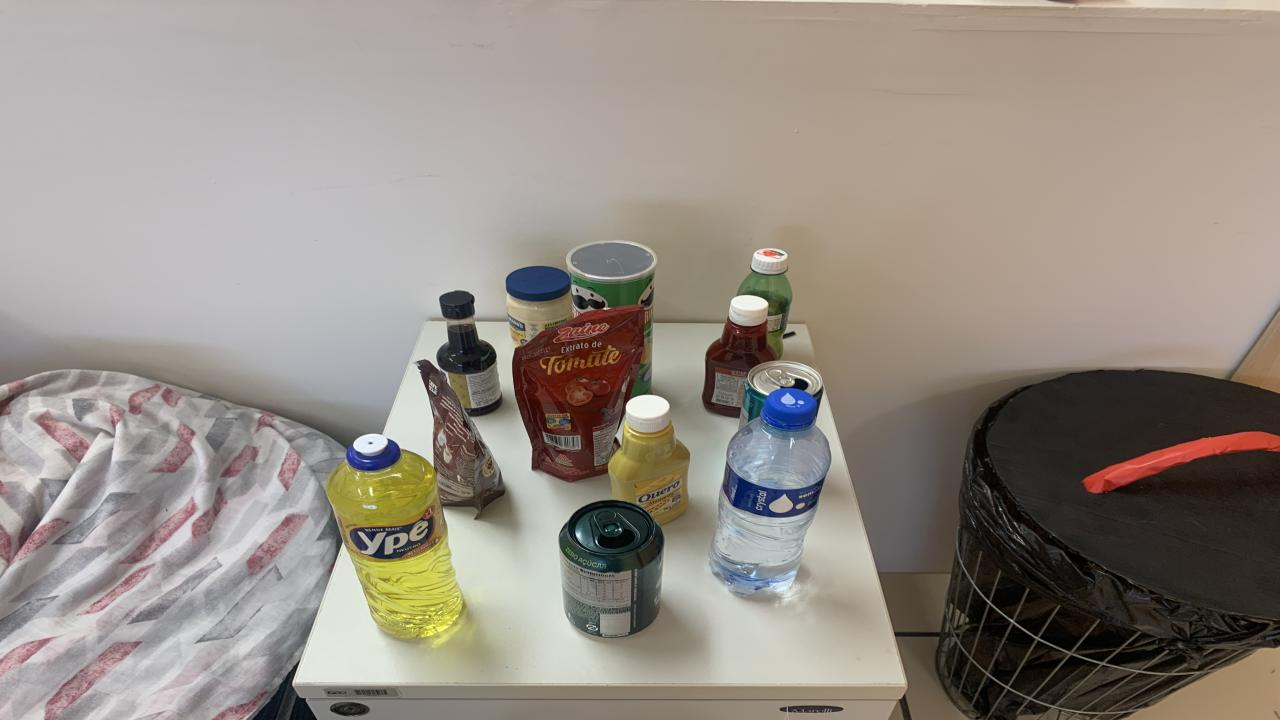Coffee-Pantry_Items: (415, 360, 505, 514)
Detergent-Cleanup_Items: (328, 435, 462, 638)
English_Sauce-Pantry_Items: (438, 291, 502, 416)
Guarana-Drinks: (738, 248, 792, 356)
Guarana_Can-Drinks: (560, 501, 662, 638)
Ketchup-Pantry_Items: (702, 294, 778, 416)
Mayonnaise-Pantry_Items: (505, 266, 572, 347)
Mustard-Pantry_Items: (608, 394, 690, 525)
Pringles-Snacks: (565, 240, 658, 396)
Tea-Drinks: (740, 360, 822, 428)
Tomato_Sauce-Pantry_Items: (512, 306, 648, 482)
Water_Bottle-Drinks: (710, 388, 830, 594)
